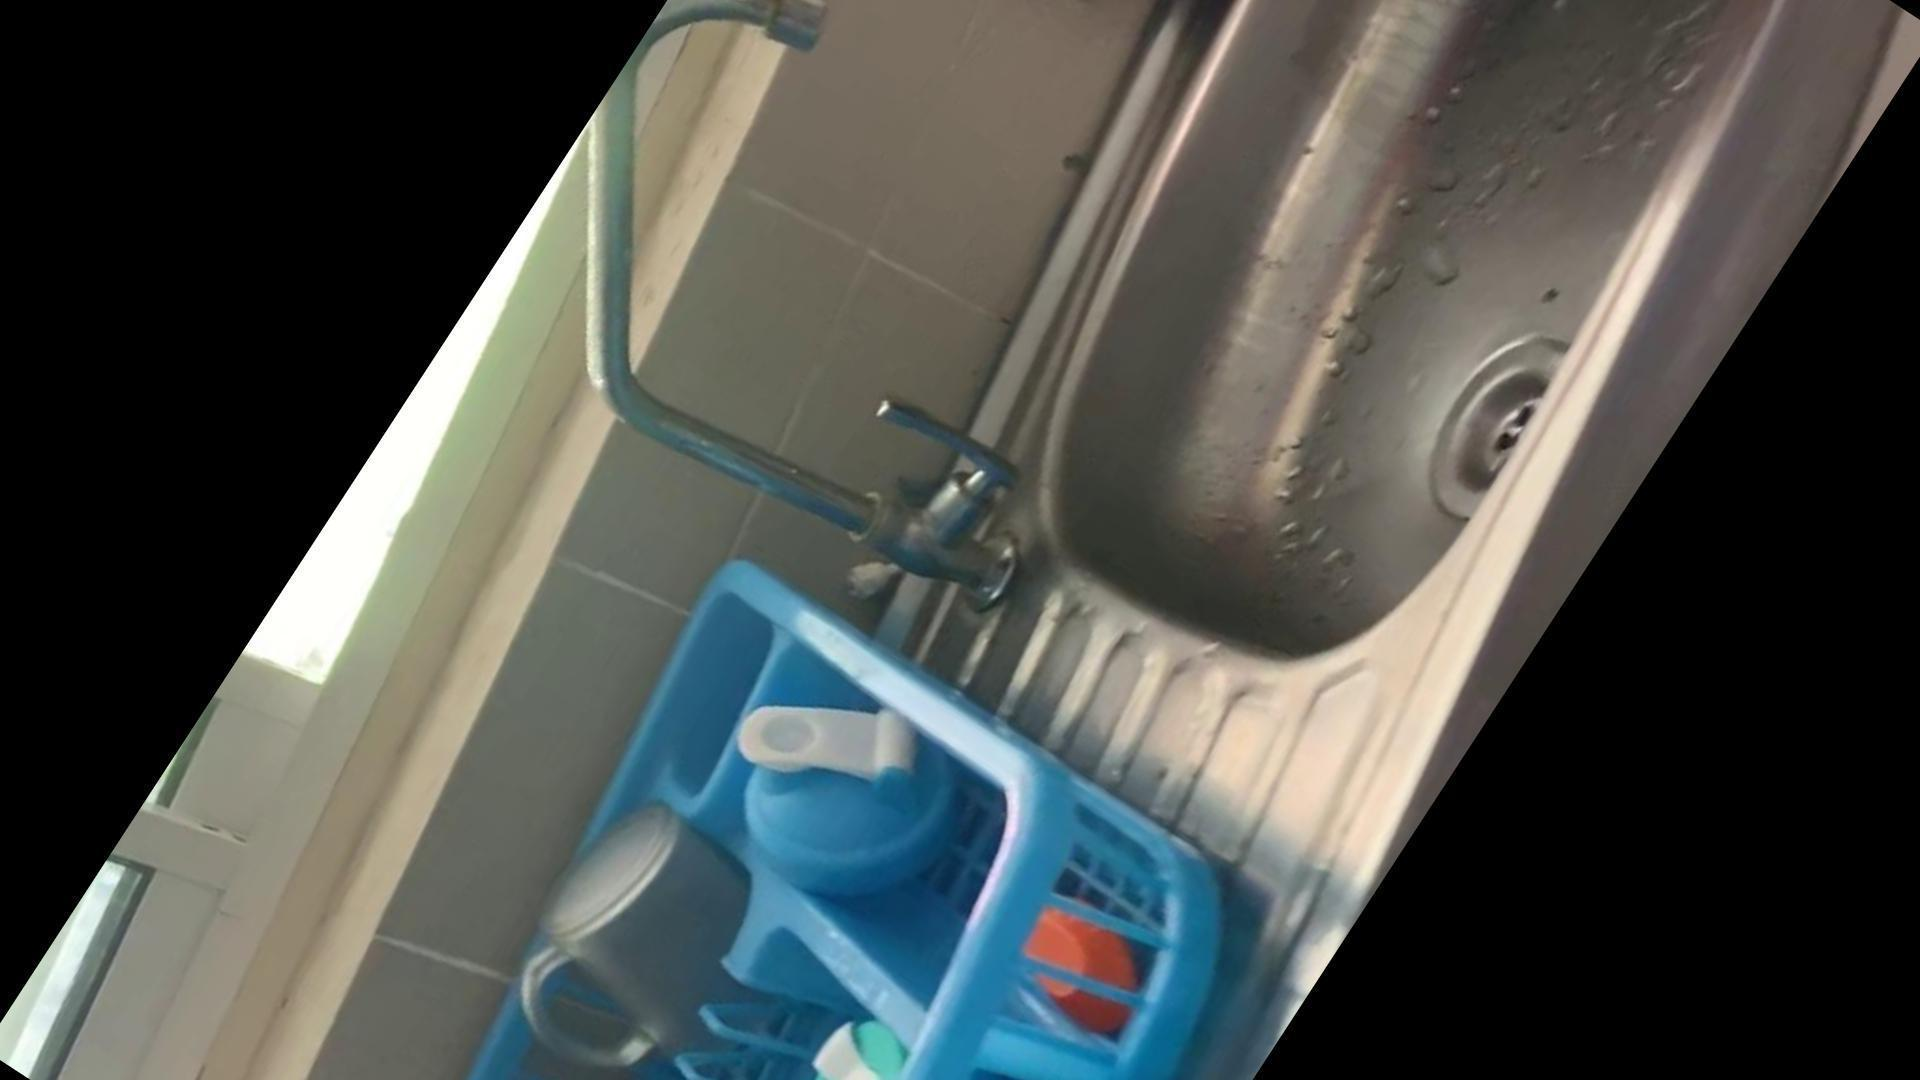Lavaplatos: (413, 0, 1920, 928)
